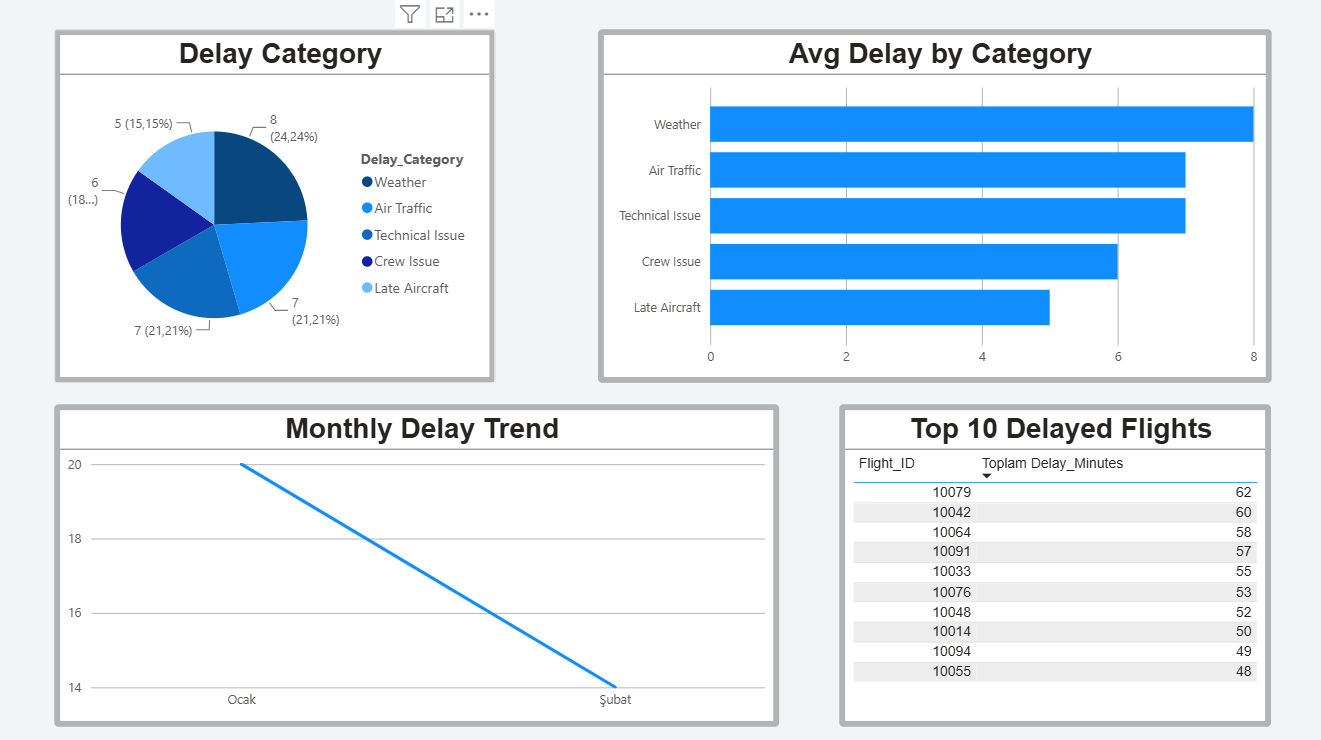

This screenshot's page, from the dashboard's own definition file:
{"tool":"powerbi","page":{"name":"Delay Analysis","canvas":[1280,720],"ordinal":1},"visuals":[{"type":"pieChart","title":"Delay Category","fields":{"Category":["fact_delays.Delay_Category"],"Y":["_measure.falan"]},"box":[58.6,34.3,420,337.1],"z":0},{"type":"barChart","title":"Avg Delay by Category","fields":{"Category":["fact_delays.Delay_Category"],"Y":["CountNonNull(fact_delays.Flight_ID)"]},"box":[575.7,34.3,641.4,337.1],"z":1},{"type":"tableEx","title":"Top 10 Delayed Flights","fields":{"Values":["fact_delays.Flight_ID","Sum(fact_delays.Delay_Minutes)"]},"box":[805.7,391.4,411.4,307.1],"z":2},{"type":"lineChart","title":"Monthly Delay Trend","fields":{"Category":["Calendar.Date.Varyasyon.Tarih Hiyerarşisi.Ay"],"Y":["_measure.Delayed Flights"]},"box":[58.6,391.4,690,307.1],"z":3}]}

Visuals, with their boxes in screenshot pixels (x1, y1, x2, y2), scaled from the page's 1280x720 canvas onto the 1321x740 screenshot:
"Delay Category" pieChart: region(60, 35, 494, 382)
"Avg Delay by Category" barChart: region(594, 35, 1256, 382)
"Top 10 Delayed Flights" tableEx: region(832, 402, 1256, 718)
"Monthly Delay Trend" lineChart: region(60, 402, 773, 718)
